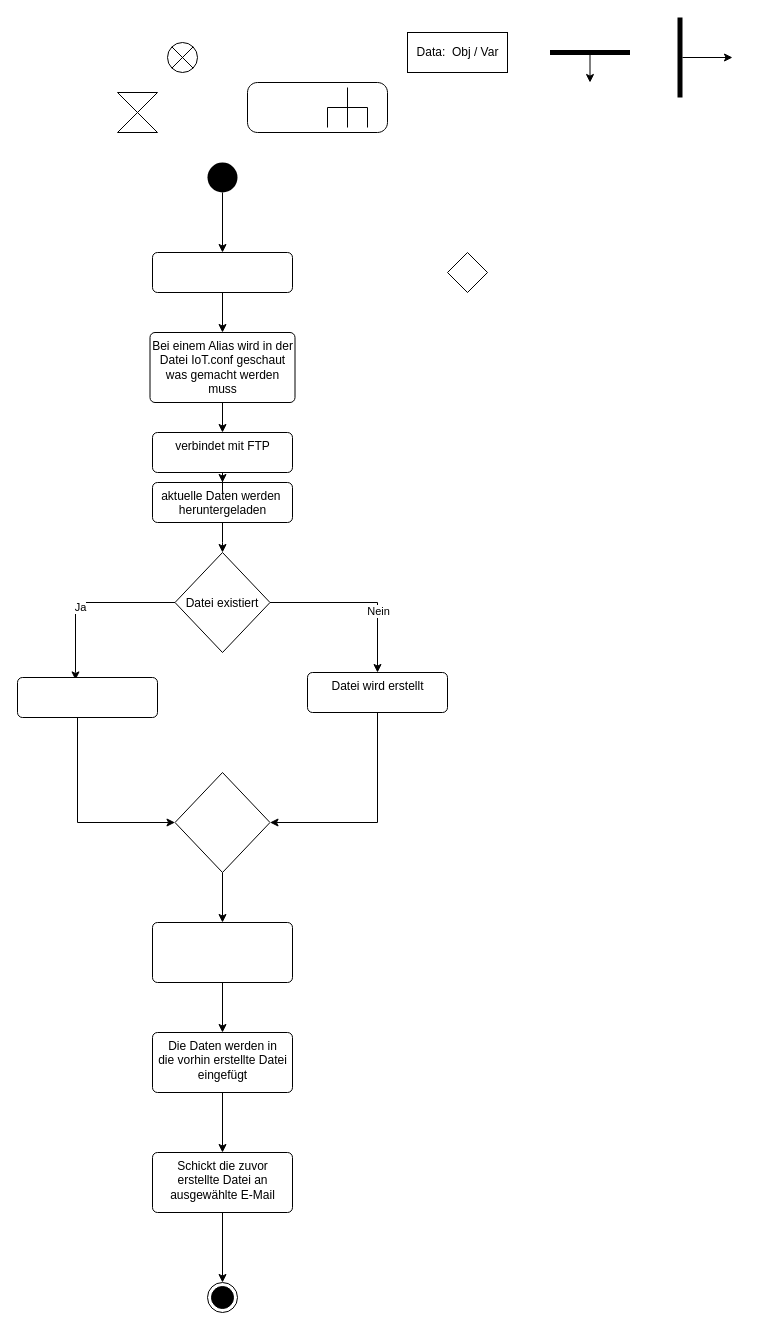
The diagram is 758 pixels wide and 1330 high, and some of its shapes have lost their labels. The centre of each missing label's shape, as x and y in pixels:
20:00 oder wird ausgeführt: the point at 222,272
Call Action: the point at 317,107
Datei wird überschrieben: the point at 87,697
Liest aus den heunter- geladenen Dateien bestimmte Daten aus: the point at 222,952
